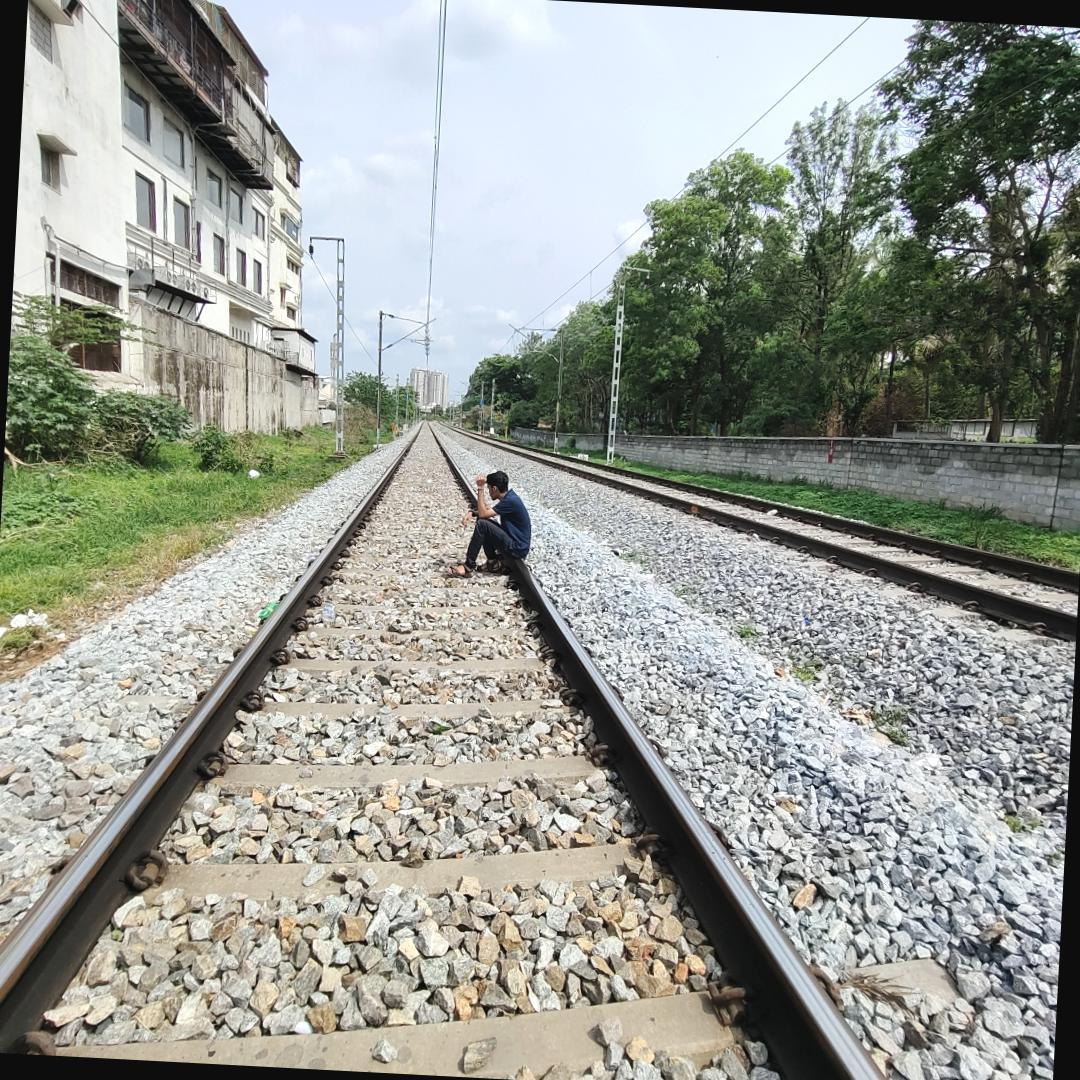sitting: (442, 465, 540, 584)
track: (0, 410, 933, 1080)
